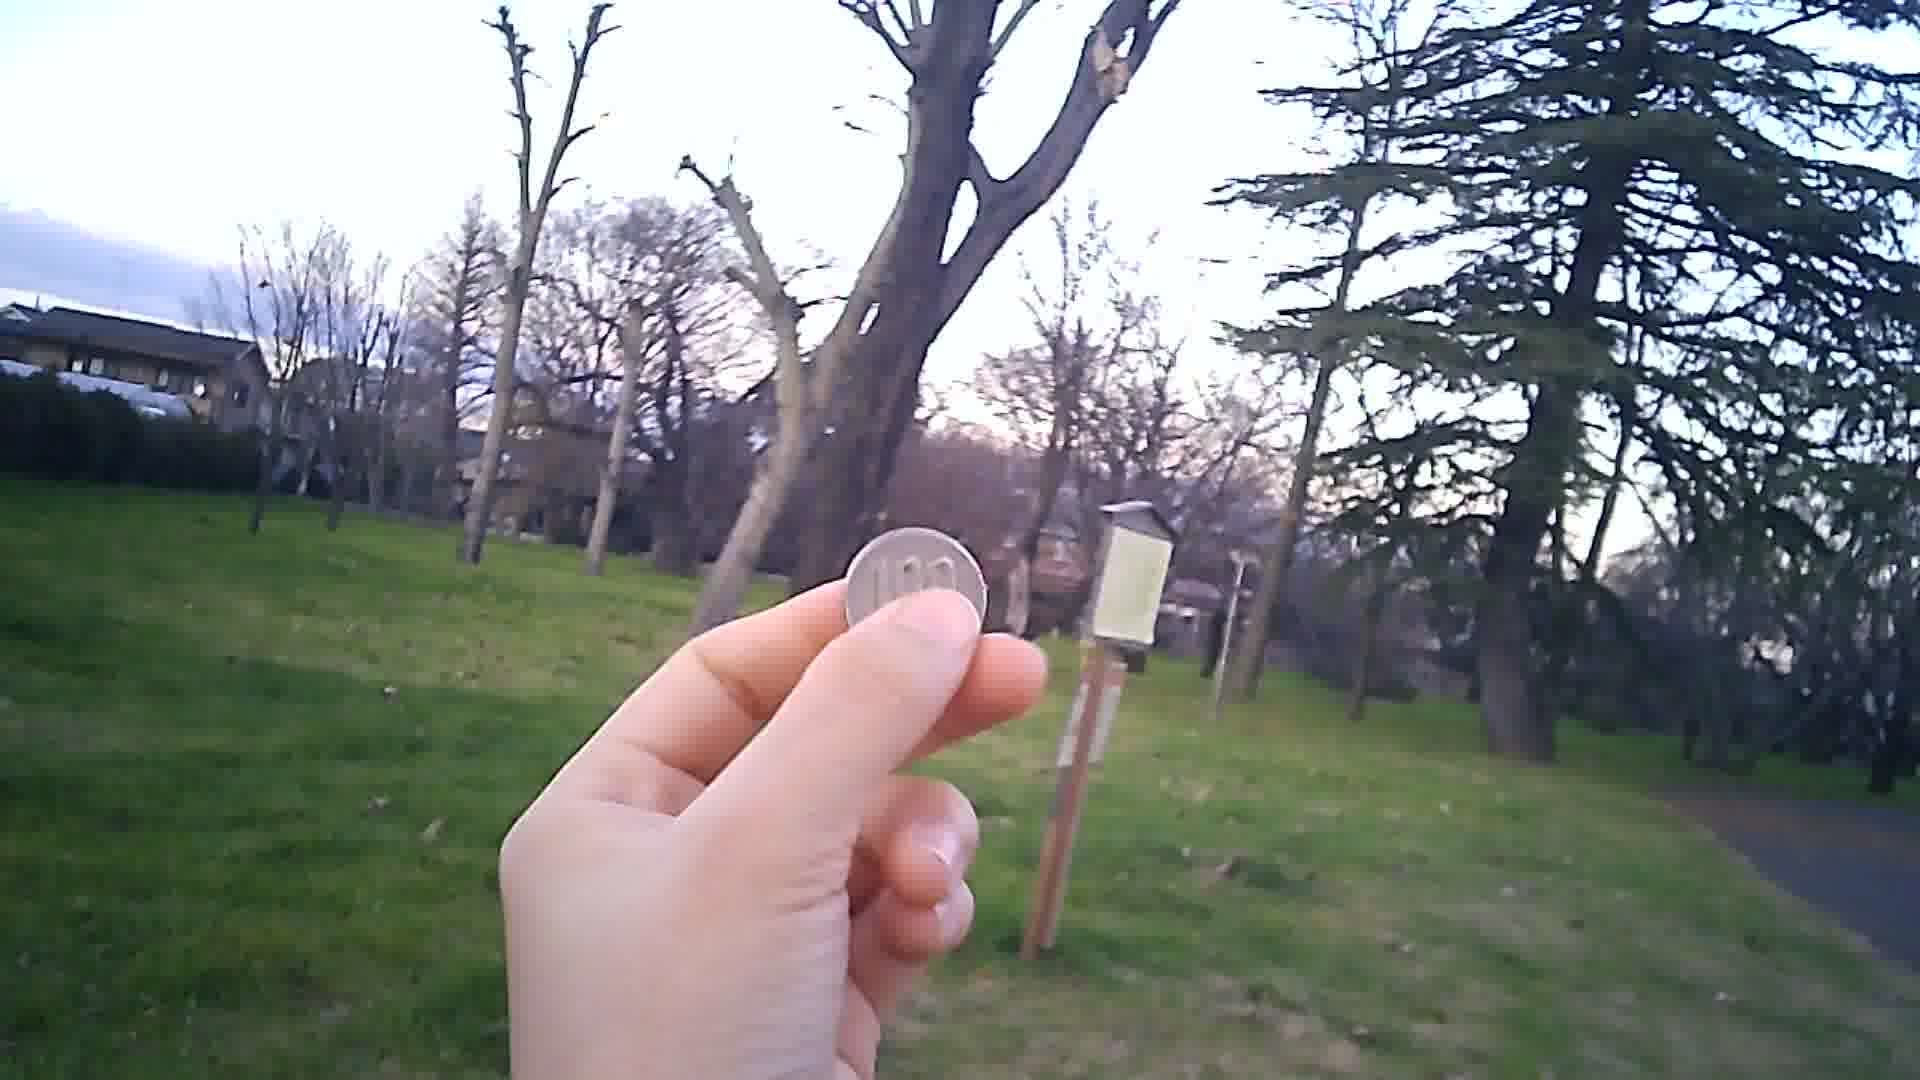100 Yen: (843, 525, 1004, 659)
